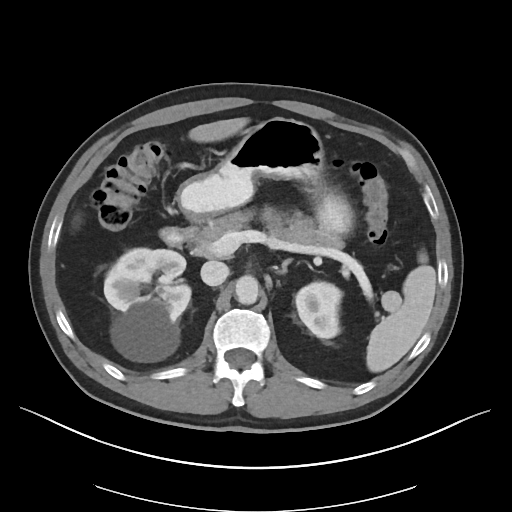Lesion: (108, 295, 185, 367)
